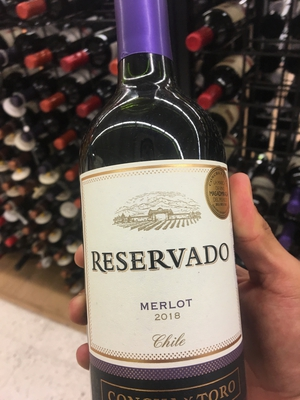reservado merlot: (74, 3, 251, 396)
